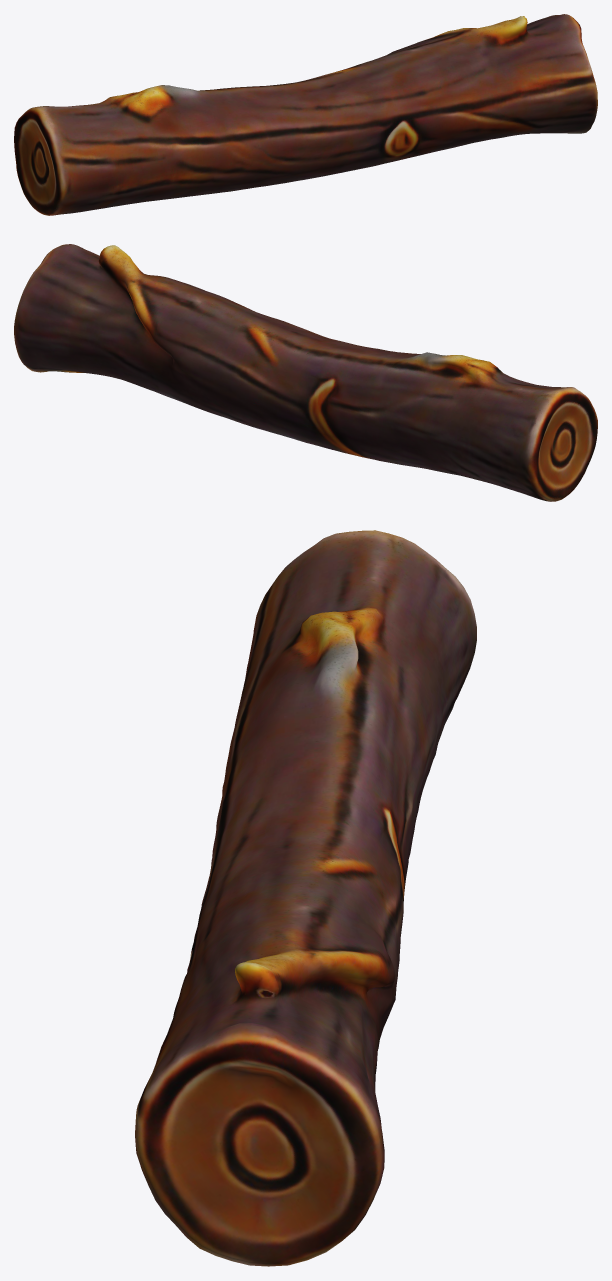
The model's file is e8cef14a5e0d_A_small_log_simple_.fbx.
3 renders of one model, top to bottom at view 1: azimuth 30°, elevation 25°; view 2: azimuth 150°, elevation 25°; view 3: azimuth 270°, elevation 25°, orthographic. The views are drawn at different scales.
Parts seen in each view (by area): view 1: mesh; view 2: mesh; view 3: mesh.
Part boxes in pixels (box(x1,y1,x2,y2)): mesh: box(14, 14, 597, 215); mesh: box(14, 244, 597, 501); mesh: box(135, 530, 476, 1266).
Bounding box in the file's own units: 99.96 × 22.91 × 28.36.
